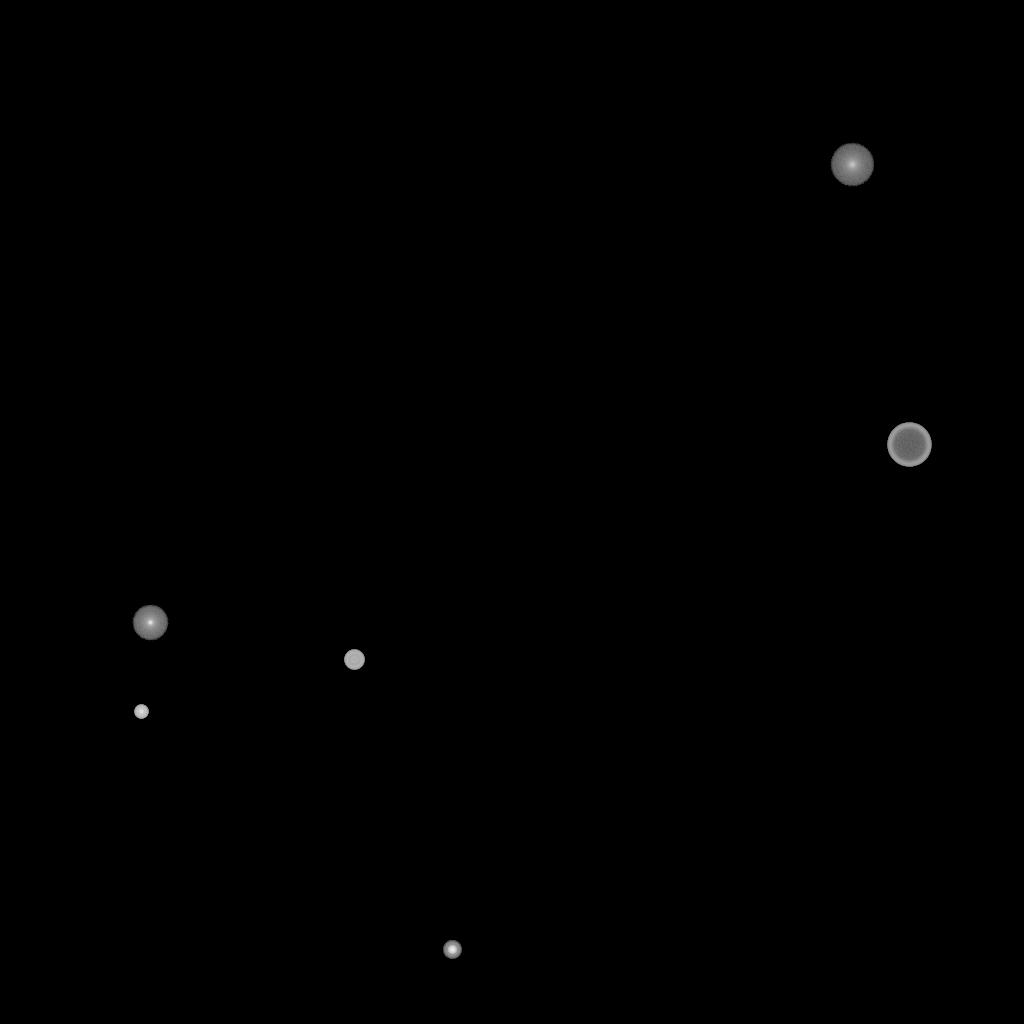depth:-20: (443, 941, 461, 959)
depth:-30: (134, 705, 148, 719)
depth:-40: (344, 650, 364, 670)
depth:-70: (887, 423, 931, 467)
depth:0: (132, 605, 168, 641)
depth:10: (830, 143, 874, 187)
